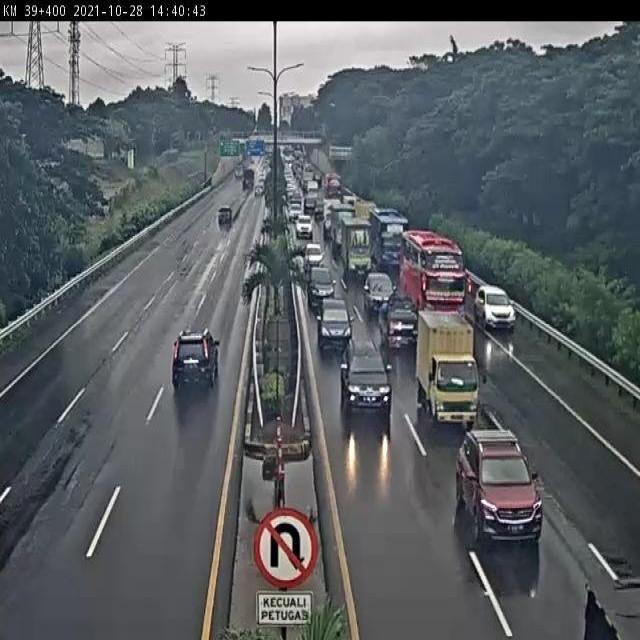big bus: (398, 230, 467, 334), (368, 206, 408, 266)
car: (454, 429, 545, 547), (339, 338, 394, 418), (170, 327, 221, 392), (377, 292, 420, 351), (473, 284, 518, 332), (315, 297, 354, 348), (306, 264, 337, 309), (364, 272, 396, 312), (301, 241, 325, 271)
mid truck: (339, 216, 374, 280)
truck-m-: (415, 308, 481, 432)
